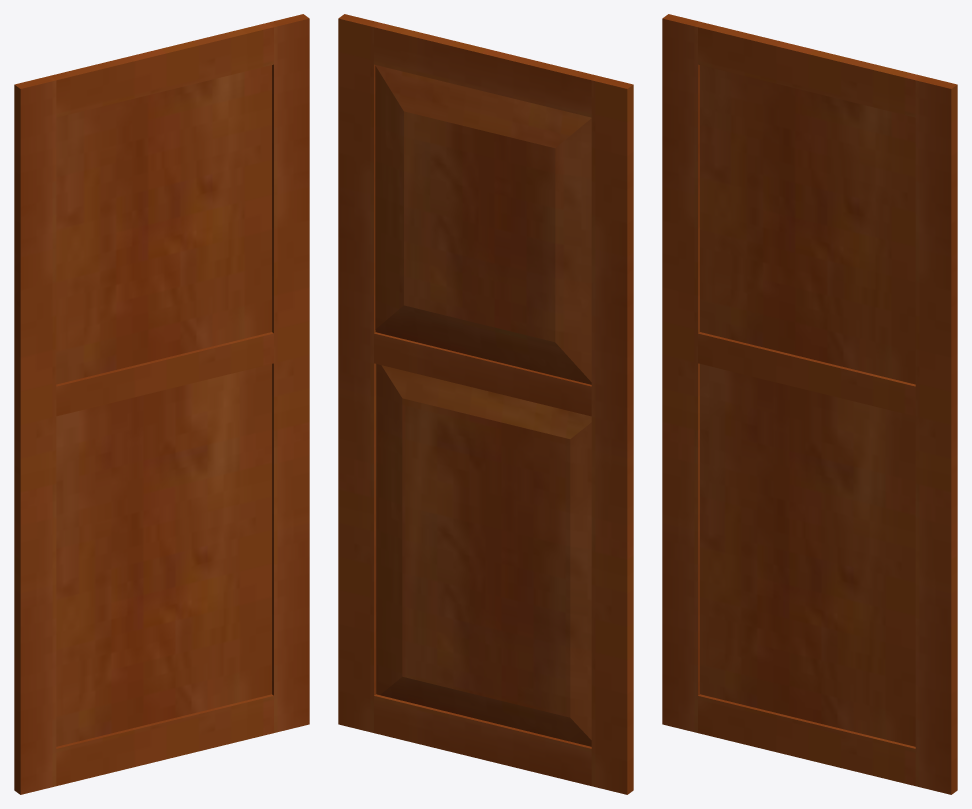
Rendered from cupboard_big_door.dae.
The picture shows the model from 3 angles, left to right: view 1: azimuth 30°, elevation 25°; view 2: azimuth 150°, elevation 25°; view 3: azimuth 330°, elevation 25°; orthographic projection.
Parts seen in each view (by area): view 1: Lwr_Door_Panel, Upper_door_panels, Door_Stiles (×2), Door_Top_Rails (×2), Centre_Door_Frame_Rail; view 2: Lwr_Door_Panel, Upper_door_panels, Door_Stiles (×2), Door_Top_Rails (×2), Centre_Door_Frame_Rail; view 3: Lwr_Door_Panel, Upper_door_panels, Door_Stiles (×2), Door_Top_Rails (×2), Centre_Door_Frame_Rail.
Boxes of the visible parts, x1=… form: Lwr_Door_Panel: x1=56, y1=364, x2=271, y2=746; Upper_door_panels: x1=56, y1=65, x2=271, y2=384; Door_Stiles (×2): x1=14, y1=14, x2=309, y2=794; Door_Top_Rails (×2): x1=50, y1=22, x2=273, y2=785; Centre_Door_Frame_Rail: x1=56, y1=332, x2=273, y2=416; Lwr_Door_Panel: x1=376, y1=364, x2=591, y2=746; Upper_door_panels: x1=375, y1=65, x2=591, y2=384; Door_Stiles (×2): x1=338, y1=14, x2=633, y2=794; Door_Top_Rails (×2): x1=374, y1=22, x2=597, y2=785; Centre_Door_Frame_Rail: x1=374, y1=332, x2=591, y2=416; Lwr_Door_Panel: x1=700, y1=364, x2=915, y2=746; Upper_door_panels: x1=700, y1=65, x2=915, y2=384; Door_Stiles (×2): x1=662, y1=14, x2=957, y2=794; Door_Top_Rails (×2): x1=698, y1=22, x2=921, y2=785; Centre_Door_Frame_Rail: x1=698, y1=332, x2=915, y2=416.
Size of the model in its own units: 20.25 by 1.06 by 47.25.
Materials: 1 (1 with a texture image).
